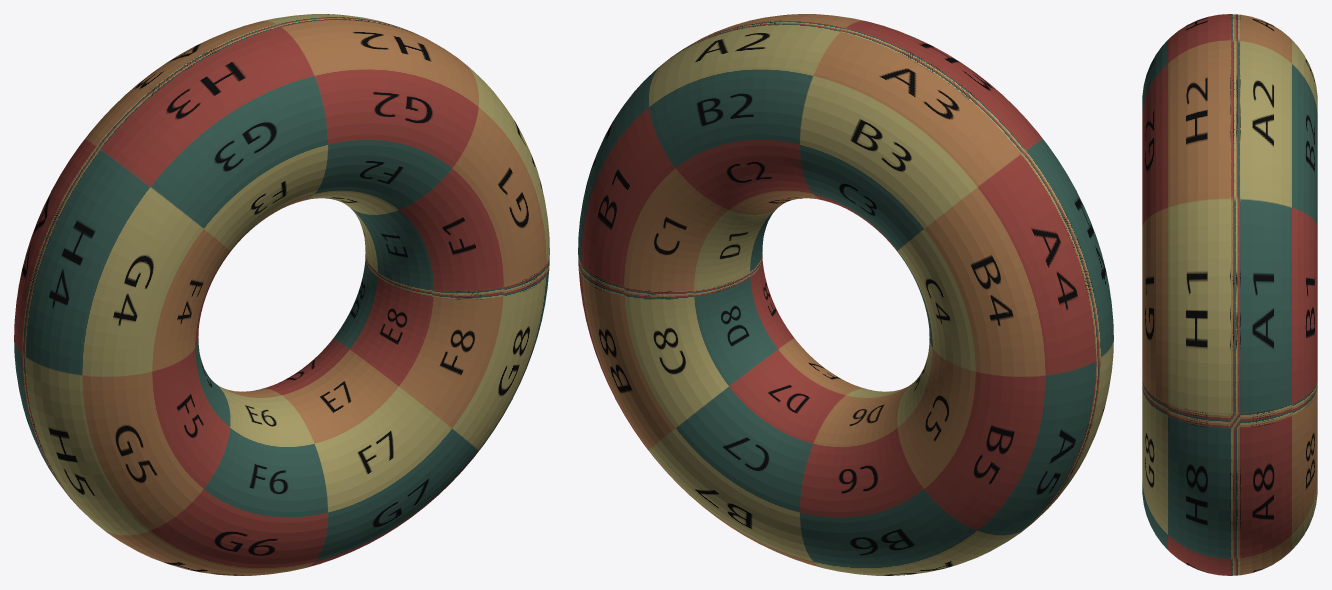
Rendered from texture_torus_R1_r4.glb.
3 views of the same model, side by side, from view 1: azimuth 30°, elevation 25°; view 2: azimuth 150°, elevation 25°; view 3: azimuth 270°, elevation 25° (orthographic). The views are drawn at different scales.
Visible parts, largest first — view 1: world; view 2: world; view 3: world.
Boxes of the visible parts, left/top/right/bottom form: world: left=14, top=14, right=549, bottom=575; world: left=578, top=14, right=1113, bottom=575; world: left=1142, top=14, right=1317, bottom=575.
Size of the model in its own units: 17.78 by 17.78 by 5.54.
Materials: 1 (1 with a texture image).
